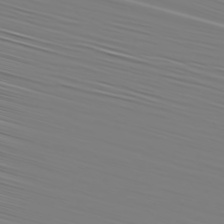cavities: (30, 52, 187, 185)
